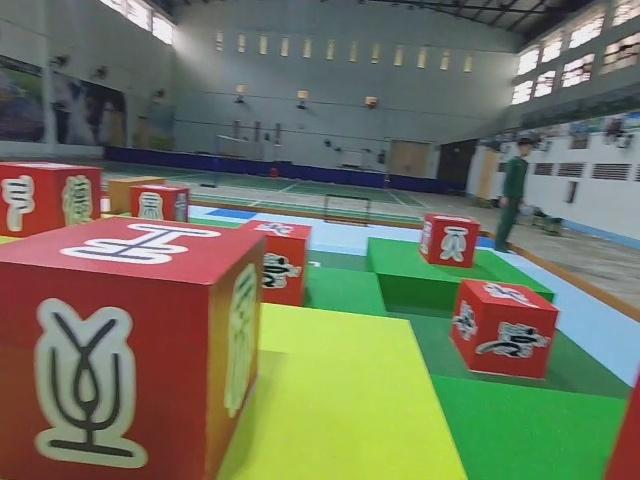R1: (447, 276, 559, 382), (232, 218, 314, 308)
R2 Fake: (0, 213, 266, 479), (0, 157, 102, 242), (417, 211, 482, 271), (127, 181, 191, 232)
